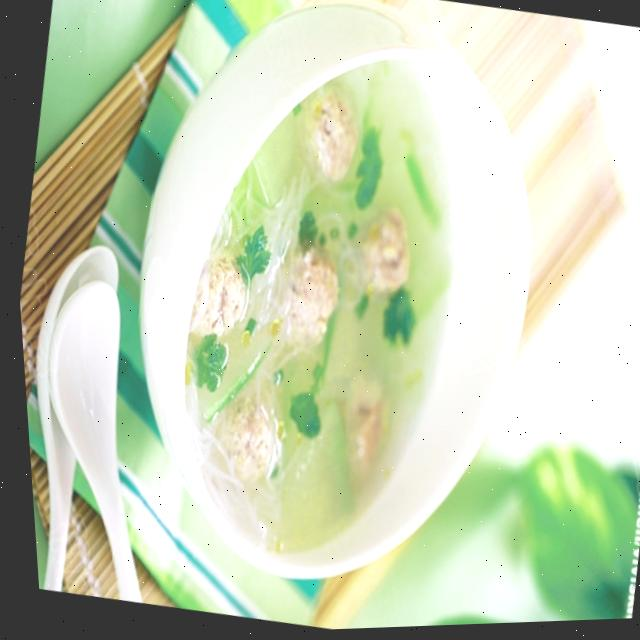汤锅炖物: (112, 9, 543, 607)
